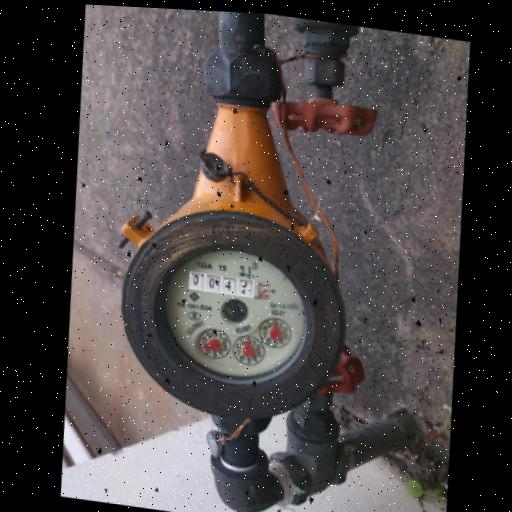0: (191, 273, 204, 289), (207, 275, 220, 291)
4: (223, 278, 236, 293), (258, 283, 269, 299)
5: (239, 280, 253, 296)
border_water_meter_number: (187, 271, 271, 302)
